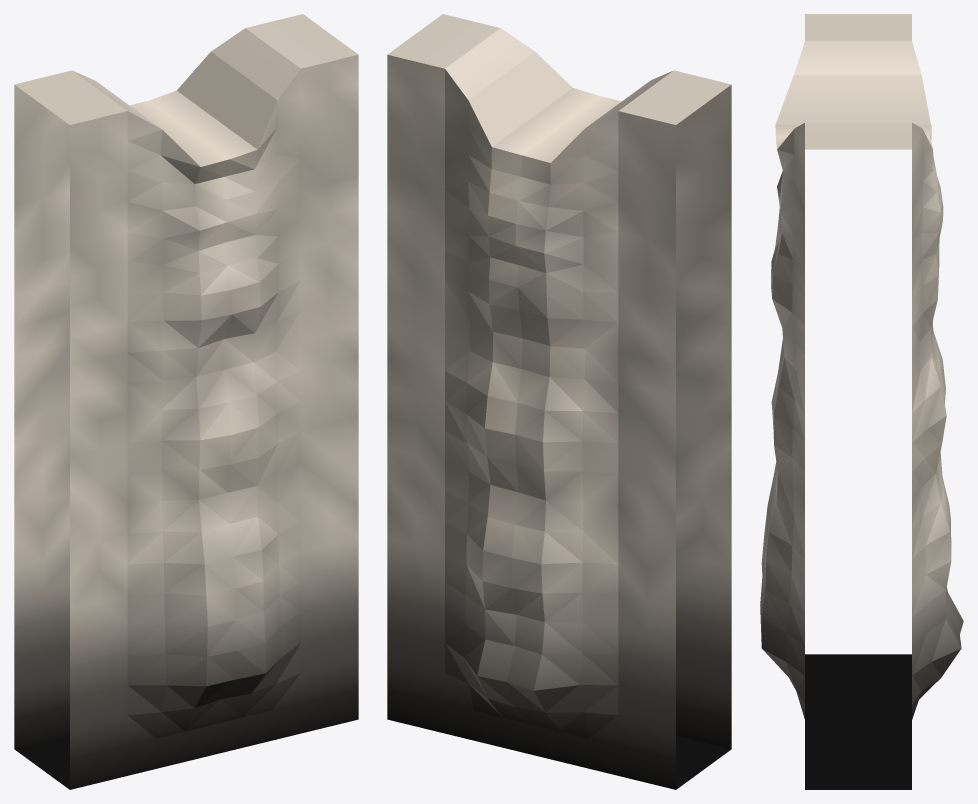
Rendered from SM_VKI_Wall_Cave_Plain_150A_Full.fbx.
3 renders of one model, left to right at view 1: azimuth 30°, elevation 25°; view 2: azimuth 150°, elevation 25°; view 3: azimuth 270°, elevation 25°, orthographic. The views are drawn at different scales.
Parts seen in each view (by area): view 1: SM_VKI_Wall_Cave_Plain_150A_Full.001; view 2: SM_VKI_Wall_Cave_Plain_150A_Full.001; view 3: SM_VKI_Wall_Cave_Plain_150A_Full.001.
Boxes of the visible parts, bbox=[...] form: SM_VKI_Wall_Cave_Plain_150A_Full.001: bbox=[14, 14, 358, 789]; SM_VKI_Wall_Cave_Plain_150A_Full.001: bbox=[387, 14, 731, 789]; SM_VKI_Wall_Cave_Plain_150A_Full.001: bbox=[760, 14, 963, 789].
Bounding box in the file's own units: 1.5 × 3.3 × 0.9515.
